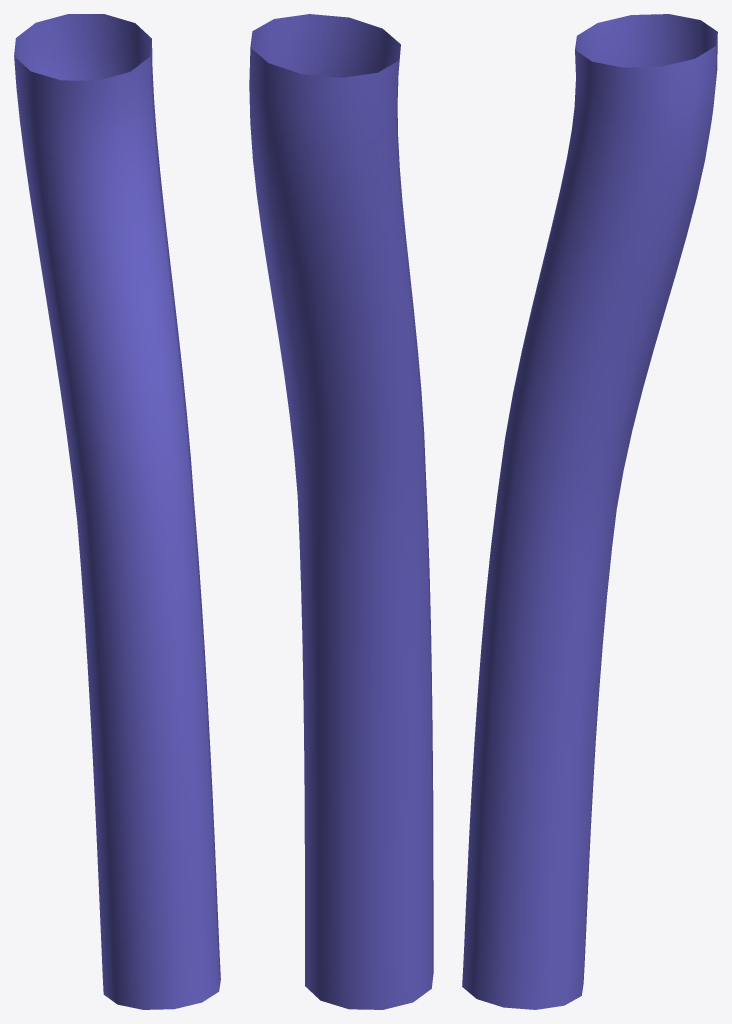
File: Inferior_vena_cava.glb
3 views of the same model, side by side, from view 1: azimuth 30°, elevation 25°; view 2: azimuth 150°, elevation 25°; view 3: azimuth 270°, elevation 25° (orthographic). The views are drawn at different scales.
Visible parts, largest first — view 1: Inferior_vena_cava_BezierCurve.044; view 2: Inferior_vena_cava_BezierCurve.044; view 3: Inferior_vena_cava_BezierCurve.044.
Part boxes in pixels (x1,y1,x2,y2): Inferior_vena_cava_BezierCurve.044: (14, 14, 220, 1009); Inferior_vena_cava_BezierCurve.044: (249, 14, 433, 1009); Inferior_vena_cava_BezierCurve.044: (462, 14, 717, 1009).
Size of the model in its own units: 0.0213 by 0.1422 by 0.035.
